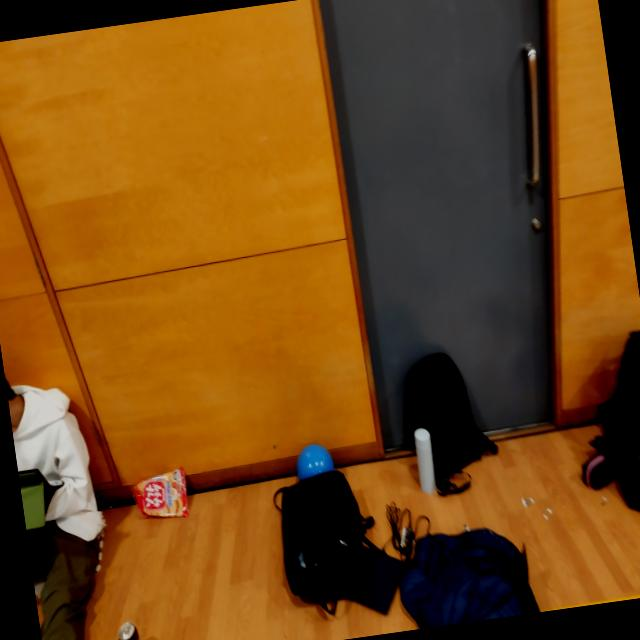blue_ball: (294, 440, 338, 486)
